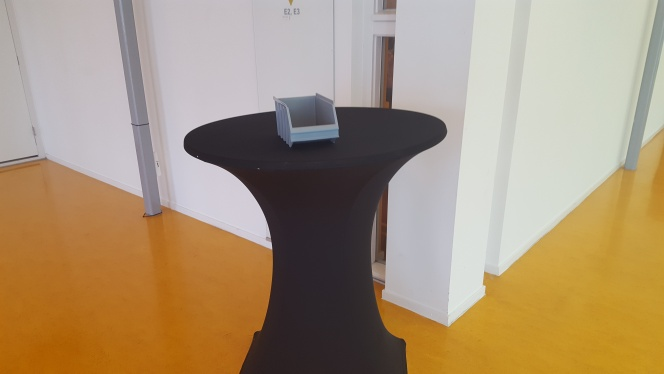tray_front: (285, 97, 340, 143)
